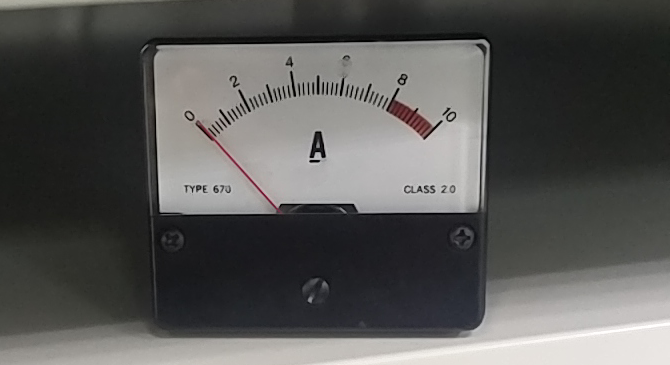Amp_Meter: (146, 39, 487, 215)
